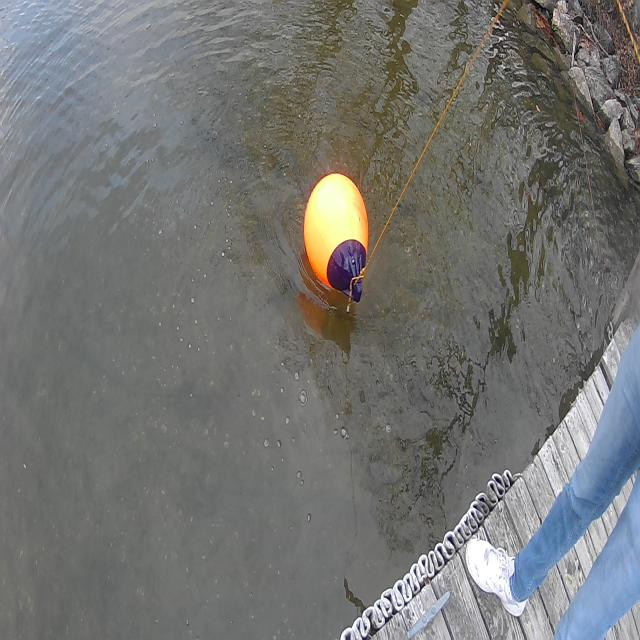Buoy: (294, 162, 382, 312)
